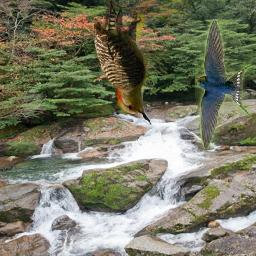Swallow: (196, 19, 253, 149)
Woodpecker: (94, 1, 152, 125)
